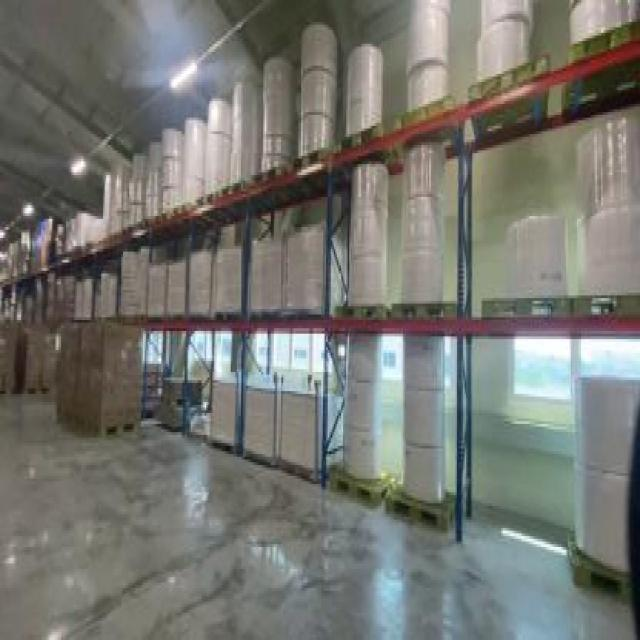box: (54, 317, 143, 438), (0, 317, 55, 402)
white_roll: (566, 374, 639, 602), (206, 366, 328, 482), (572, 120, 638, 312), (394, 334, 452, 528), (331, 331, 389, 509), (398, 148, 456, 314), (483, 216, 571, 317), (466, 3, 549, 109), (337, 161, 391, 323), (248, 232, 326, 318), (203, 77, 259, 194), (400, 3, 455, 120), (297, 19, 338, 159), (100, 134, 160, 227), (186, 246, 243, 326), (160, 112, 202, 208), (342, 47, 384, 142), (258, 55, 292, 172), (143, 257, 186, 326)
